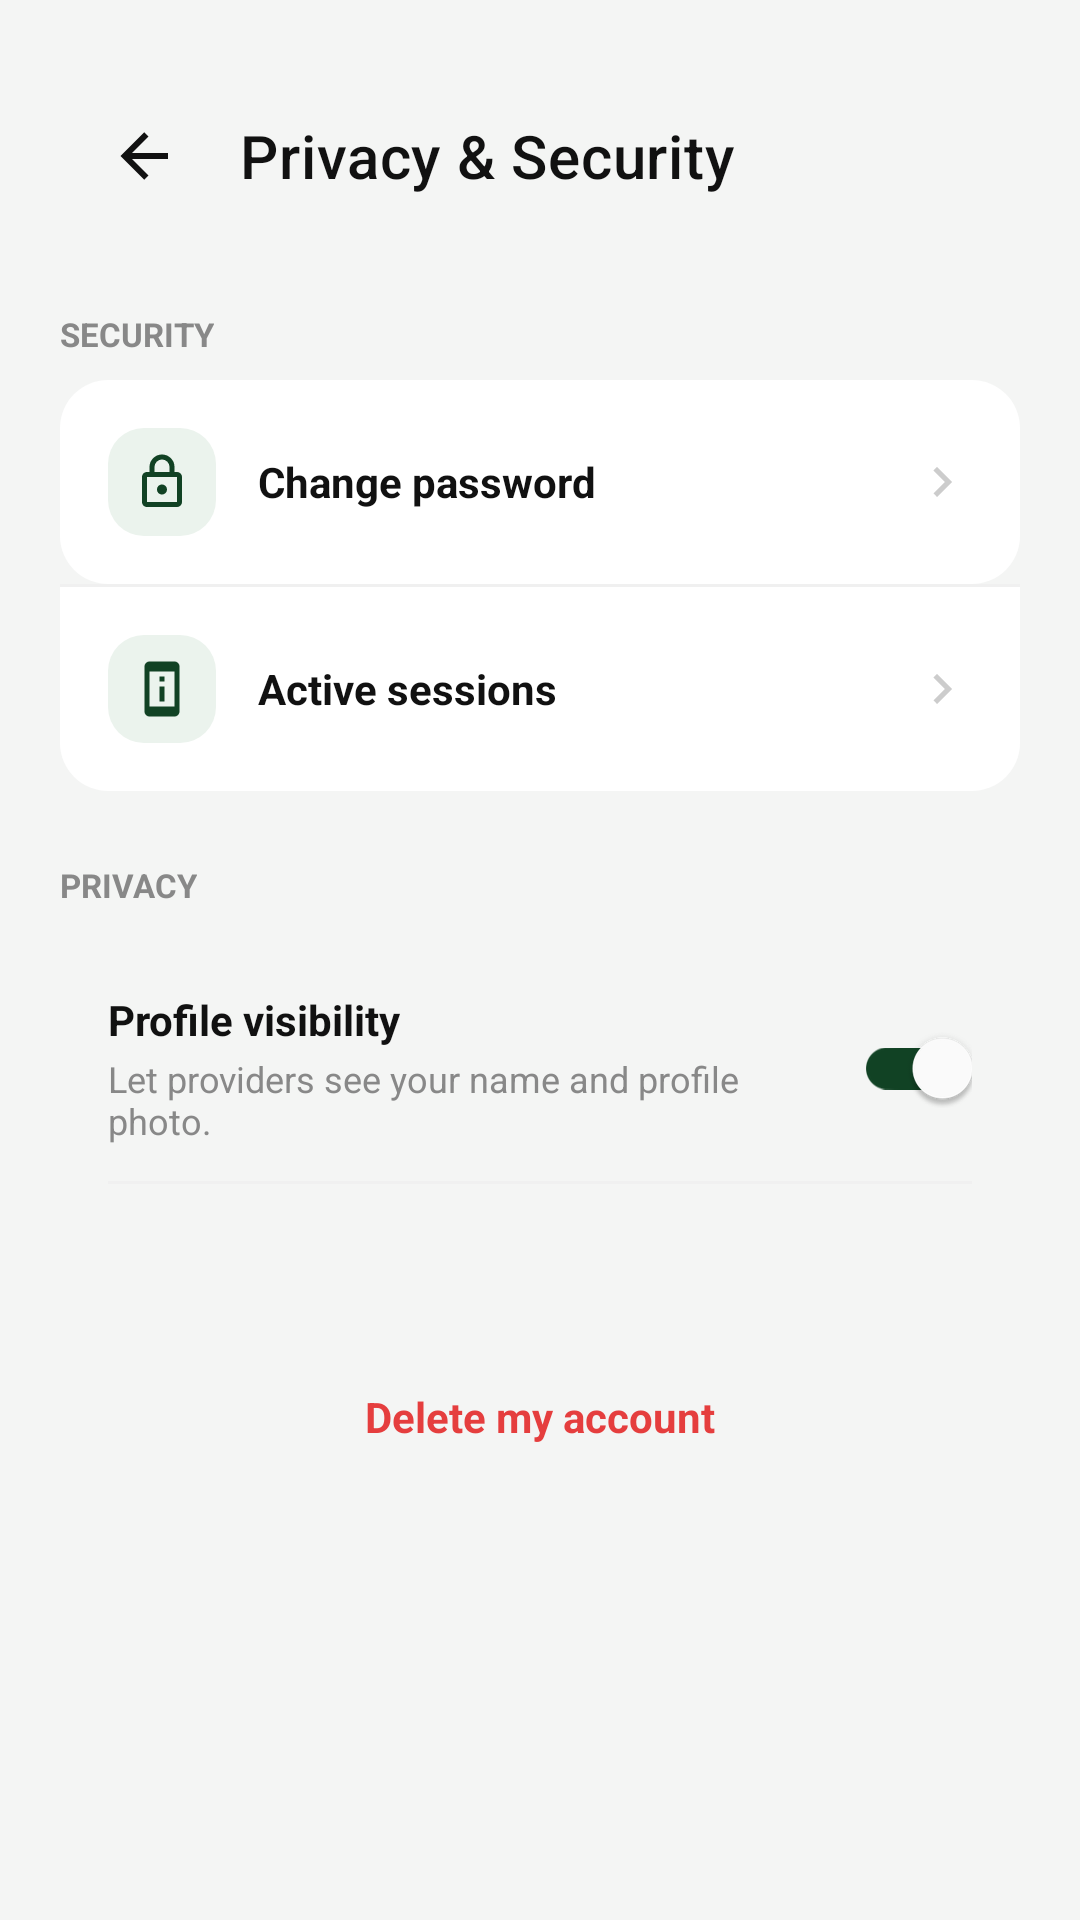

Icon click points for this 1080 x 1920 phone screenshot, format (x,y):
cellphone information: (162,689)
chevron right: (943,482), (943,689)
lock: (162,482)
